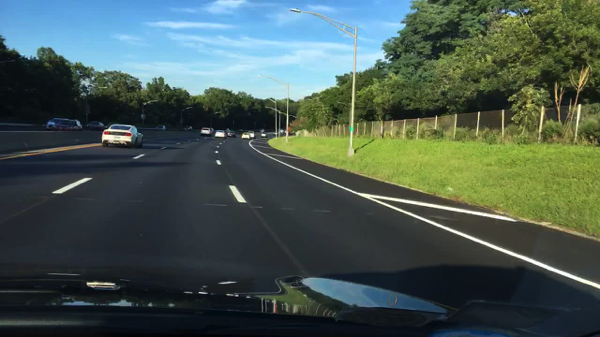car: (100, 124, 144, 148), (55, 119, 82, 131), (45, 118, 59, 131), (88, 121, 106, 129), (214, 129, 227, 139), (199, 128, 212, 136), (240, 132, 251, 139), (155, 126, 167, 131), (228, 131, 236, 138), (249, 131, 257, 138), (260, 132, 268, 138), (275, 129, 283, 135), (184, 126, 193, 131)
